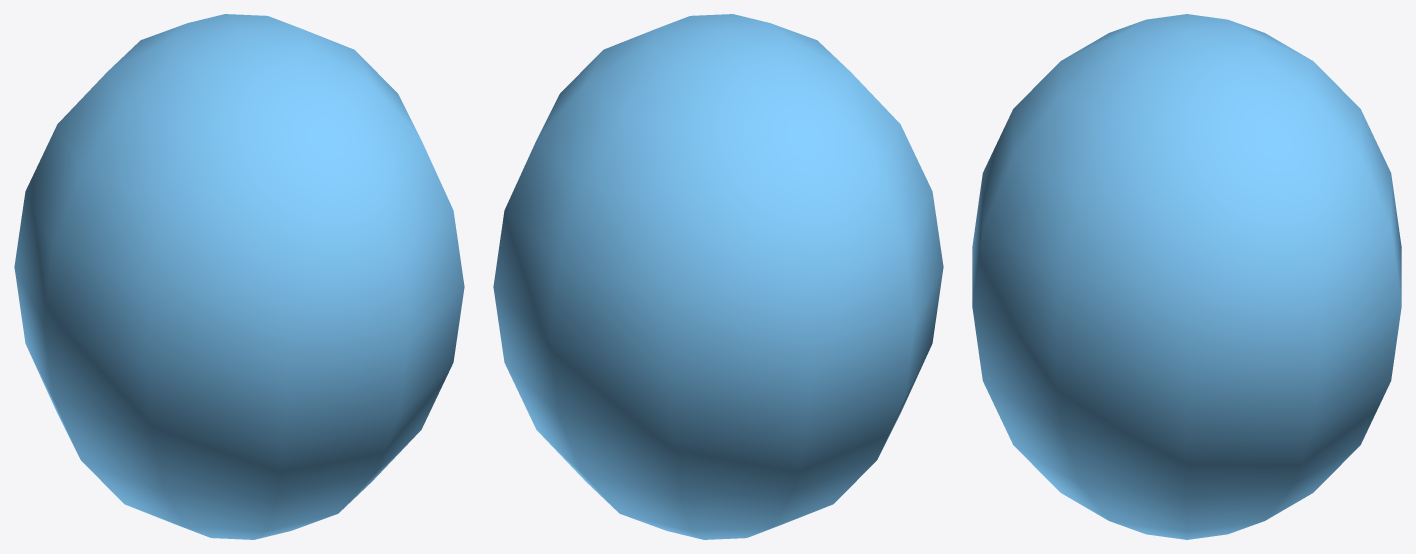
Rendered from Ventanil_stage1.obj.
3 renders of one model, left to right at view 1: azimuth 30°, elevation 25°; view 2: azimuth 150°, elevation 25°; view 3: azimuth 270°, elevation 25°, orthographic.
Bounding box in the file's own units: 1.6 × 1.92 × 1.52.
